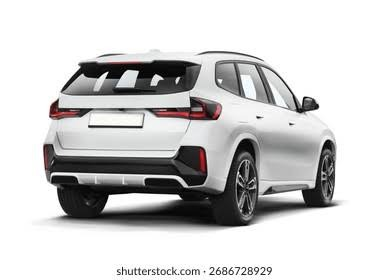car: (43, 49, 342, 226), (43, 52, 337, 226), (49, 50, 328, 219)
